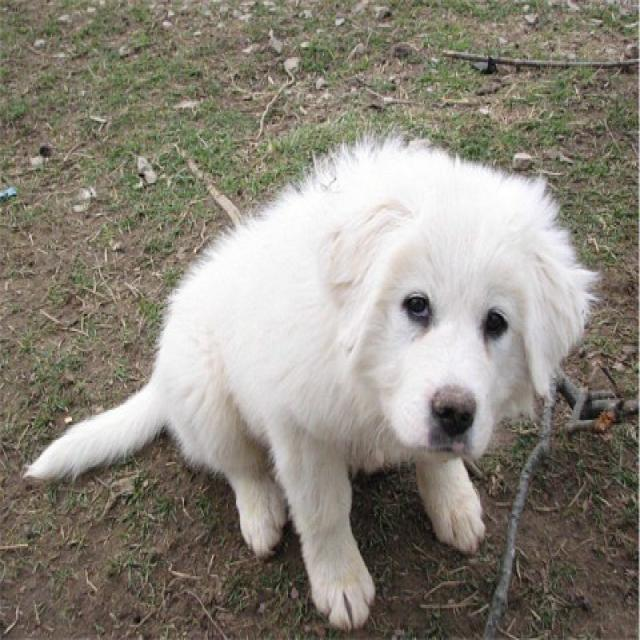dog-great_pyrenees: (11, 128, 608, 637)
